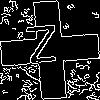Z: (25, 25, 60, 73)
